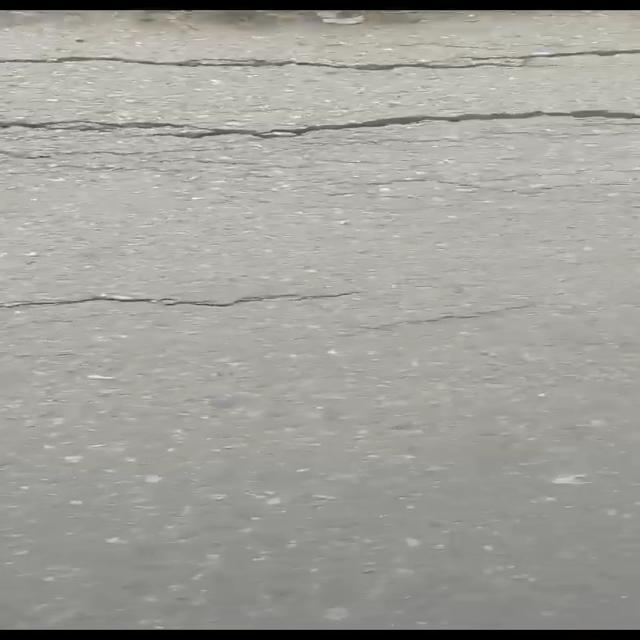Melintang: (0, 98, 640, 149), (0, 281, 357, 332)
